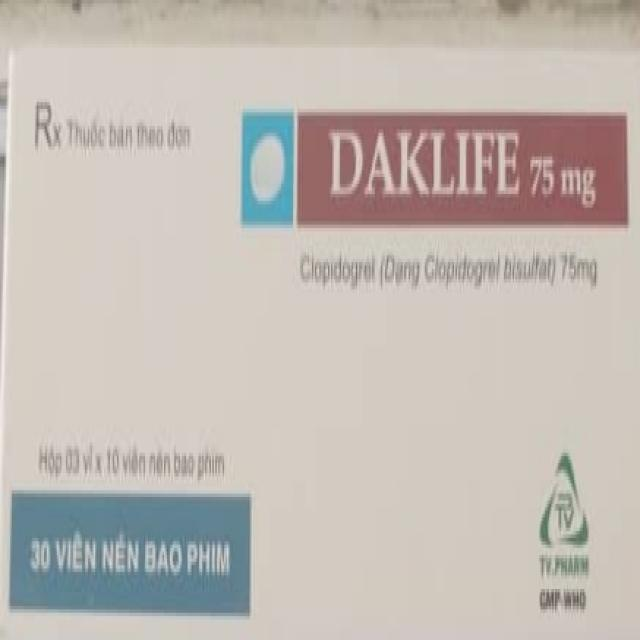drug-name: (318, 124, 526, 196)
